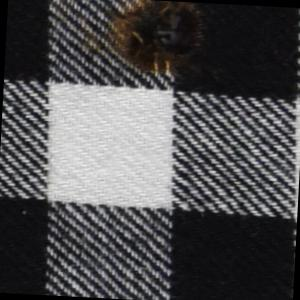Damage: (78, 1, 209, 81)
